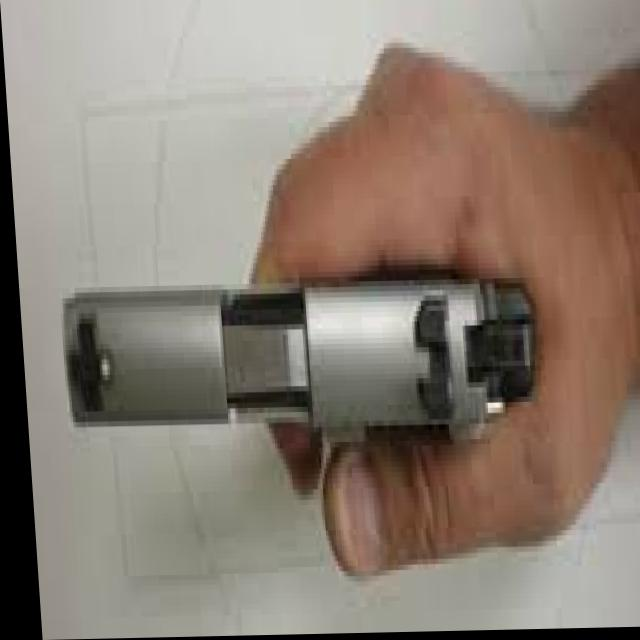handgun: (44, 212, 544, 459)
